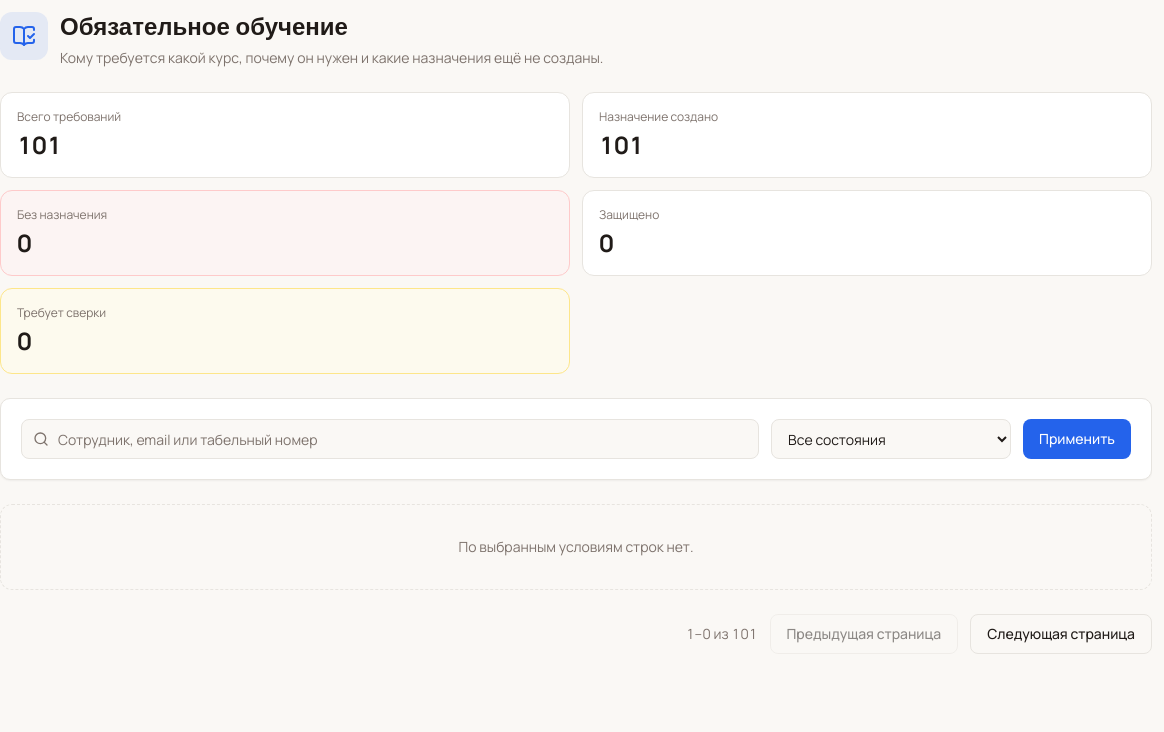
Scenario: mandatory training matrix › does not hide rows beyond the first server page
The image size is (1164, 732).
Click the button "Следующая страница". click: (1061, 634)
box: [970, 614, 1152, 654]
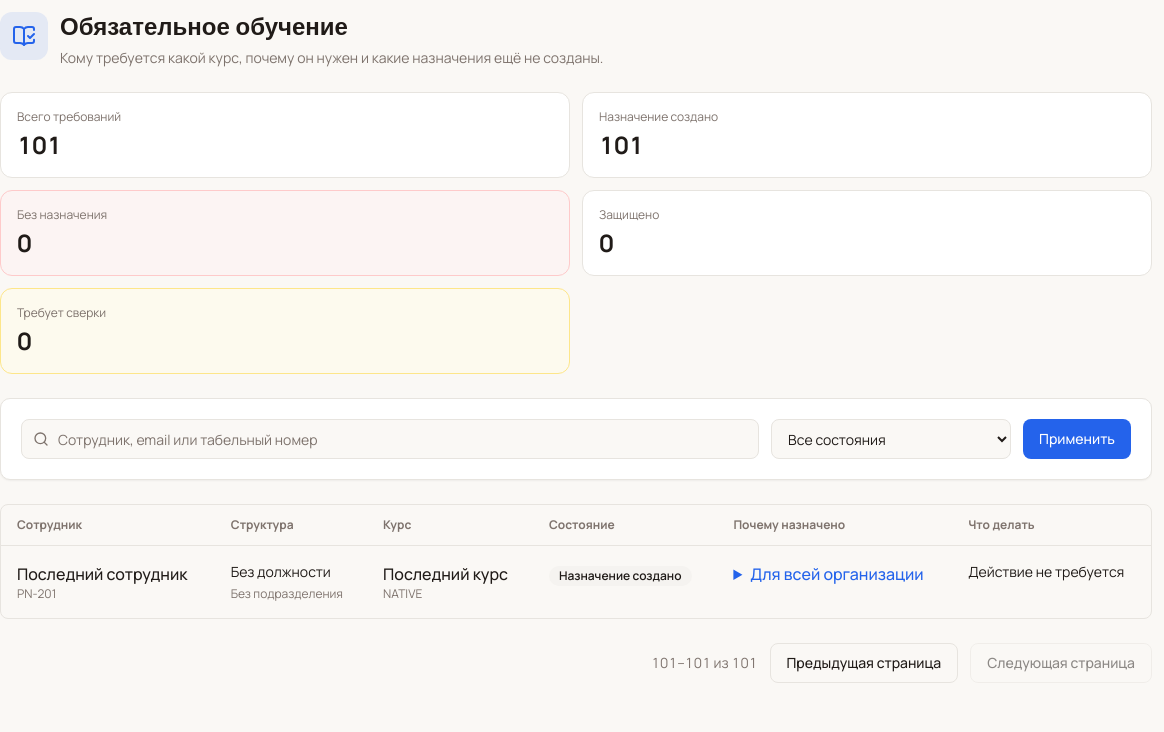
Check: the text "Последний сотрудник" is shown 2 times
Check: the text "101–101 из 101" is shown, box [651, 653, 758, 673]
